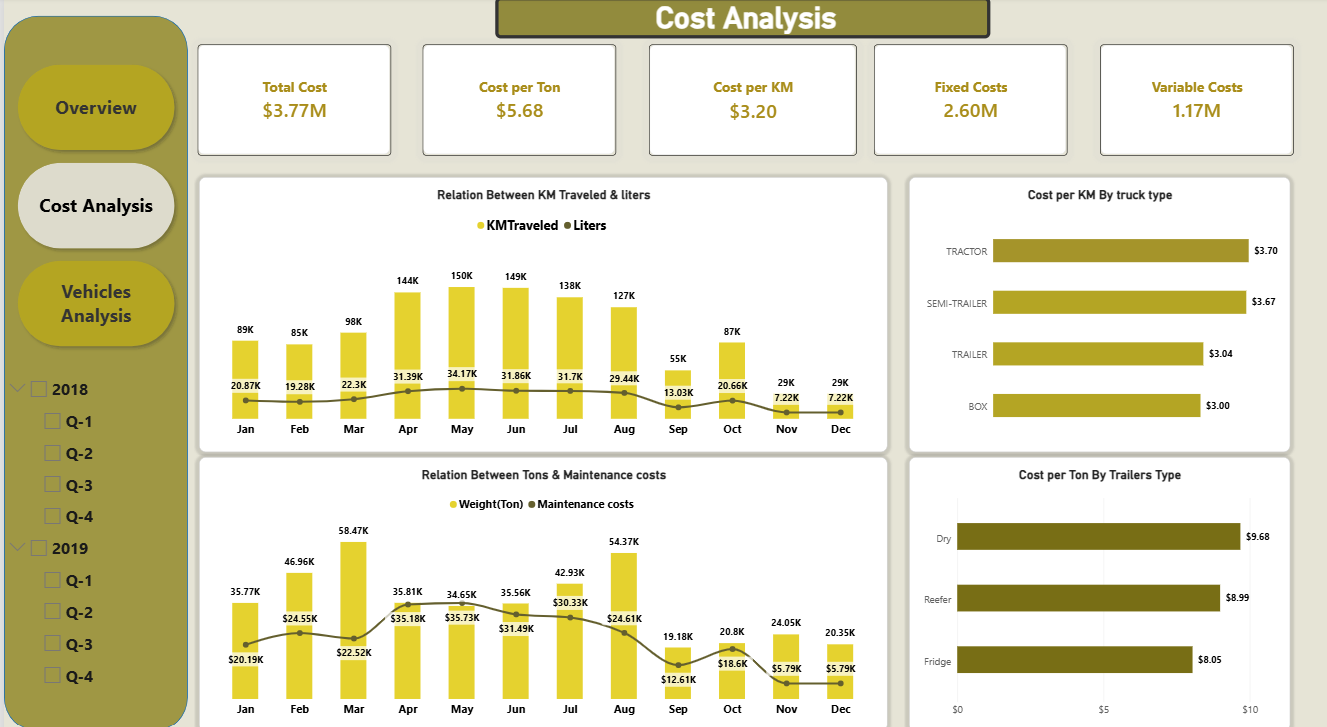

The page's visual inventory and layout, read from the dashboard file:
{"tool":"powerbi","page":{"name":"Cost Analysis","canvas":[1920,1080],"ordinal":1},"visuals":[{"type":"cardVisual","fields":{"Data":["Calculations.Total Cost"]},"box":[280.5,68.8,279.9,160.5],"z":0},{"type":"cardVisual","fields":{"Data":["Calculations.Cost per Ton"]},"box":[607.1,68.8,279.9,160.5],"z":1000},{"type":"cardVisual","fields":{"Data":["Calculations.Variable Costs"]},"box":[1587.1,68.8,279.9,160.5],"z":2000},{"type":"cardVisual","fields":{"Data":["Calculations.Cost prt KM"]},"box":[933.8,68.8,300.4,161.1],"z":3000},{"type":"shape","box":[0,27.1,266,1036.9],"z":4000},{"type":"barChart","title":"Cost per KM By truck type","fields":{"Category":["dVeiculo.Truck Type"],"Y":["Calculations.Cost per KM"]},"box":[1310.2,260.6,551.9,398.1],"z":5000},{"type":"lineClusteredColumnComboChart","title":"Relation Between KM Traveled & liters","fields":{"Category":["Calendar.Month"],"Y":["Calculations.KMTraveled"],"Y2":["Calculations.Liters"]},"box":[282.3,260.6,997.1,398.1],"z":6000},{"type":"lineClusteredColumnComboChart","title":"Relation Between  Tons & Maintenance costs","fields":{"Category":["Calendar.Month"],"Y":["Calculations.Weight(Ton)"],"Y2":["Calculations.Maintenance costs"]},"box":[282.3,666,997.1,398.1],"z":7000},{"type":"cardVisual","fields":{"Data":["Calculations.Fixed Costs"]},"box":[1260.4,68.8,279.9,160.5],"z":8000},{"type":"barChart","title":"Cost per Ton By Trailers Type","fields":{"Category":["dVeiculo.Trailers Type"],"Y":["Calculations.Cost per Ton"]},"box":[1310.2,666,551.9,398.1],"z":9000},{"type":"slicer","fields":{"Values":["Calendar.Year","Calendar.Quarter"]},"box":[0,545.5,300,487.3],"z":12001},{"type":"pageNavigator","box":[10.9,89.1,245.5,427.3],"z":12002},{"type":"cardVisual","fields":{"Data":["Var Calculations.YOY% (cost)"]},"box":[441.6,68.8,150.2,47.1],"z":12003},{"type":"cardVisual","fields":{"Data":["Var Calculations.YOY% (cost/ton)"]},"box":[767.3,68.8,150.2,47.1],"z":12004},{"type":"cardVisual","fields":{"Data":["Var Calculations.YOY% (cost/KM)"]},"box":[1108,70,150,46],"z":12005},{"type":"cardVisual","fields":{"Data":["Var Calculations.YOY% (Fixed Costs)"]},"box":[1400,70,172,46],"z":12006},{"type":"cardVisual","fields":{"Data":["Var Calculations.YOY% (Variable cost)"]},"box":[1728,68,190,48],"z":12007},{"type":"textbox","box":[712,0,716.6,59.7],"z":12008}]}

Visuals, with their boxes in screenshot pixels (x1, y1, x2, y2), scaled from the page's 1920x1080 canvas onto the 1327x727 screenshot:
cardVisual - Calculations.Total Cost: box(194, 46, 387, 154)
cardVisual - Calculations.Cost per Ton: box(420, 46, 613, 154)
cardVisual - Calculations.Variable Costs: box(1097, 46, 1290, 154)
cardVisual - Calculations.Cost prt KM: box(645, 46, 853, 155)
shape: box(0, 18, 184, 716)
"Cost per KM By truck type" barChart: box(906, 175, 1287, 443)
"Relation Between KM Traveled & liters" lineClusteredColumnComboChart: box(195, 175, 884, 443)
"Relation Between  Tons & Maintenance costs" lineClusteredColumnComboChart: box(195, 448, 884, 716)
cardVisual - Calculations.Fixed Costs: box(871, 46, 1065, 154)
"Cost per Ton By Trailers Type" barChart: box(906, 448, 1287, 716)
slicer - Calendar.Year x Calendar.Quarter: box(0, 367, 207, 695)
pageNavigator: box(8, 60, 177, 348)
cardVisual - Var Calculations.YOY% (cost): box(305, 46, 409, 78)
cardVisual - Var Calculations.YOY% (cost/ton): box(530, 46, 634, 78)
cardVisual - Var Calculations.YOY% (cost/KM): box(766, 47, 869, 78)
cardVisual - Var Calculations.YOY% (Fixed Costs): box(968, 47, 1086, 78)
cardVisual - Var Calculations.YOY% (Variable cost): box(1194, 46, 1326, 78)
textbox: box(492, 0, 987, 40)
